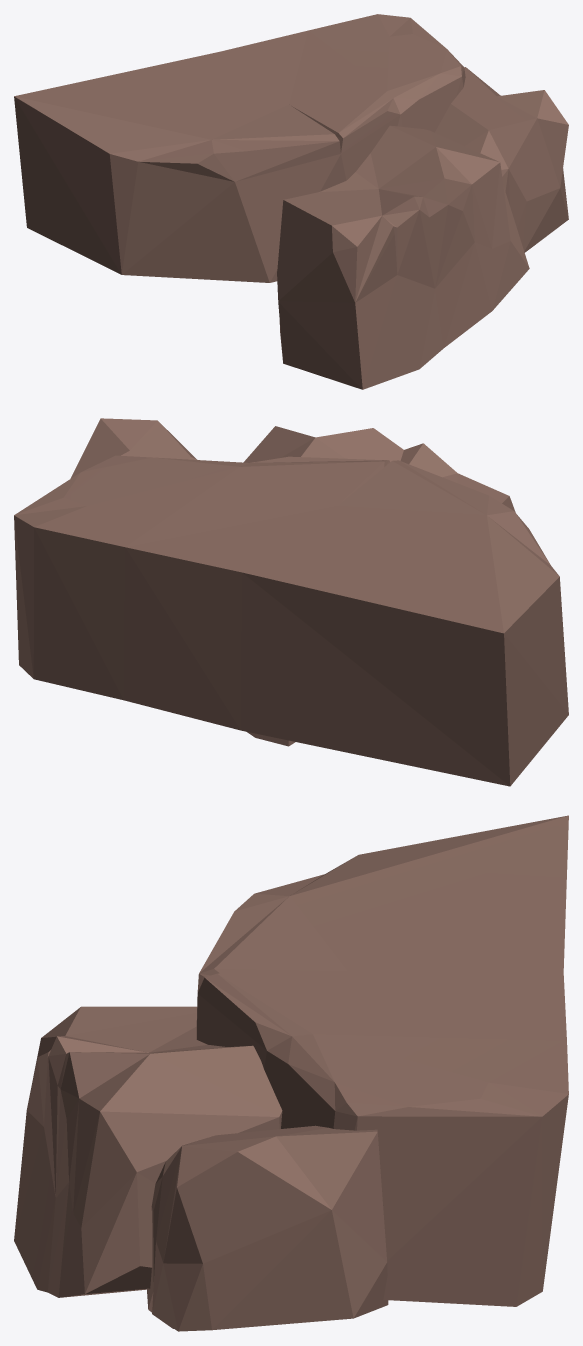
The model's file is rock.fbx.
The picture shows the model from 3 angles, top to bottom: view 1: azimuth 30°, elevation 25°; view 2: azimuth 150°, elevation 25°; view 3: azimuth 270°, elevation 25°; orthographic projection. The views are drawn at different scales.
Parts seen in each view (by area): view 1: rock; view 2: rock; view 3: rock.
Part boxes in pixels (left/top/right/bottom): rock: left=14, top=14, right=568, bottom=389; rock: left=14, top=418, right=568, bottom=786; rock: left=14, top=815, right=568, bottom=1331.
Size of the model in its own units: 3682 by 1691 by 2722.
1 material, 1 textured.
